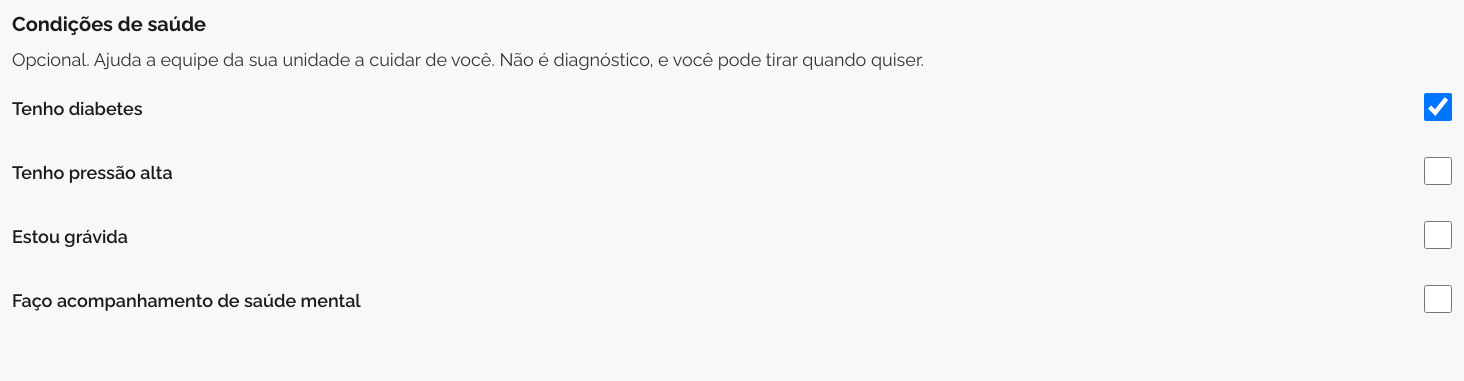
Test: HealthConditions › ligar declara e reflete a lista do api
This screenshot has width=1464, height=381.
What coordinates should you click on to do the following:
click the switch labelled "Tenho pressão alta"
I would click on:
 (1438, 171)
Its box is [1424,157,1452,185].
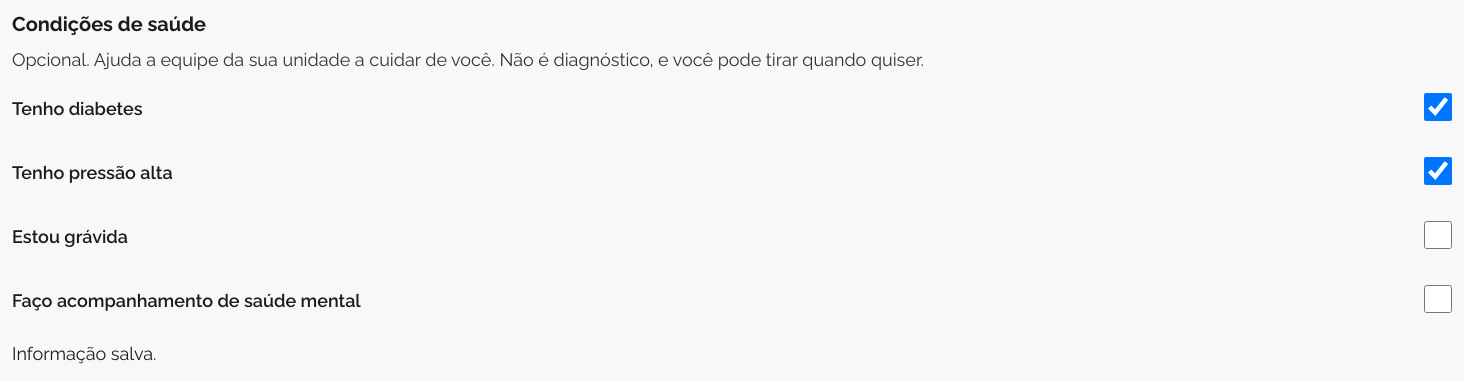
Expected: the switch labelled "Tenho pressão alta" is checked, [1424,157,1452,185]
Expected: the message reads "Informação salva.", [12,339,156,364]
